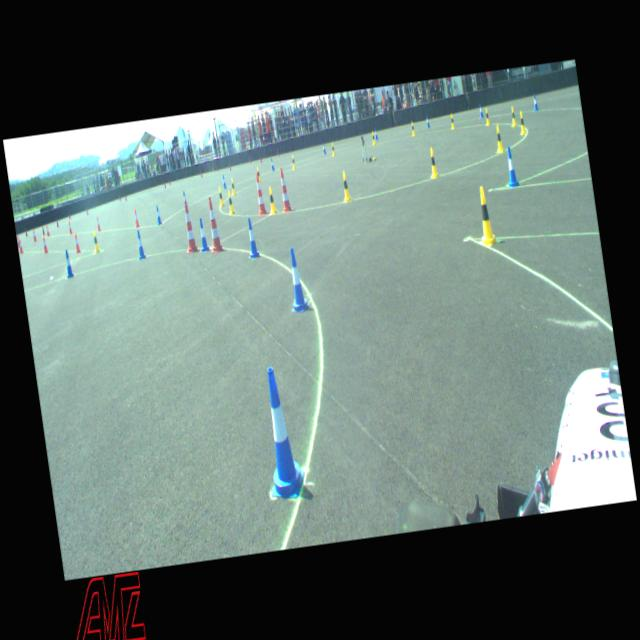blue_cone: (254, 362, 307, 500), (283, 246, 310, 314), (504, 146, 520, 188), (244, 217, 260, 259), (198, 218, 210, 251), (135, 230, 147, 260), (62, 250, 74, 278), (155, 205, 163, 225), (532, 95, 539, 112), (478, 102, 484, 119), (222, 174, 227, 188), (425, 115, 430, 128), (270, 158, 275, 171), (322, 142, 326, 156), (374, 127, 378, 140), (182, 190, 186, 200)
large_orange_cone: (203, 196, 224, 253), (180, 200, 200, 253), (276, 166, 293, 212), (252, 172, 269, 215)
orange_cone: (73, 232, 81, 253), (133, 209, 140, 227), (95, 216, 102, 232), (42, 236, 48, 254), (18, 238, 24, 254), (66, 220, 72, 235), (32, 230, 37, 242), (46, 224, 50, 237)
yellow_cone: (473, 186, 496, 246), (339, 170, 352, 202), (427, 146, 439, 178), (266, 186, 278, 215), (494, 124, 504, 154), (508, 106, 518, 128), (227, 191, 236, 215), (518, 110, 526, 135), (92, 230, 100, 253), (217, 186, 225, 207), (484, 108, 491, 125), (230, 178, 236, 195), (290, 153, 296, 170), (449, 112, 455, 129), (410, 120, 416, 136), (370, 132, 376, 146), (331, 142, 336, 156), (257, 166, 261, 182)
